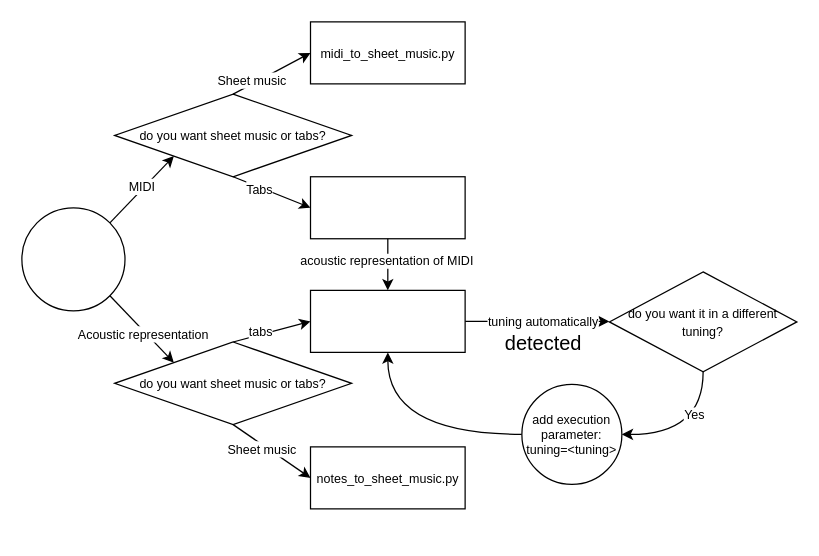
The diagram is 819 pixels wide and 556 high, and some of its shapes have lost their labels. The shapes that lost their labels are listed below. From the top down, each one's centre as x and y in pixels, then its label:
At pixel 387 207: "transcriber.py".
At pixel 73 258: "supply input".
At pixel 387 320: "tab_generator_interface.py".
